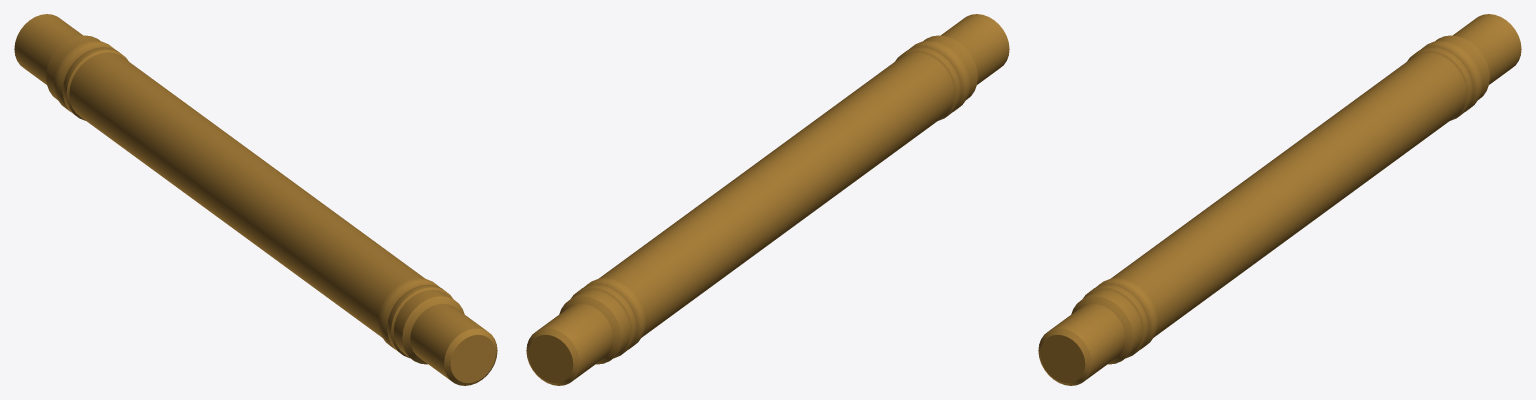
The model's file is shaft_short.glb.
The picture shows the model from 3 angles, left to right: view 1: azimuth 30°, elevation 25°; view 2: azimuth 150°, elevation 25°; view 3: azimuth 330°, elevation 25°; orthographic projection.
Visible parts, largest first — view 1: Shaft_Short; view 2: Shaft_Short; view 3: Shaft_Short.
Boxes of the visible parts, bbox=[...] form: Shaft_Short: bbox=[14, 14, 497, 385]; Shaft_Short: bbox=[526, 14, 1009, 385]; Shaft_Short: bbox=[1038, 14, 1521, 385].
Size of the model in its own units: 0.008 by 0.008 by 0.09.
